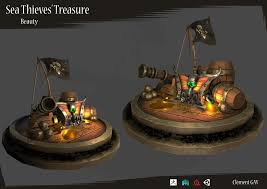Jolly Roger Flag: (39, 54, 74, 83), (184, 19, 218, 46)
